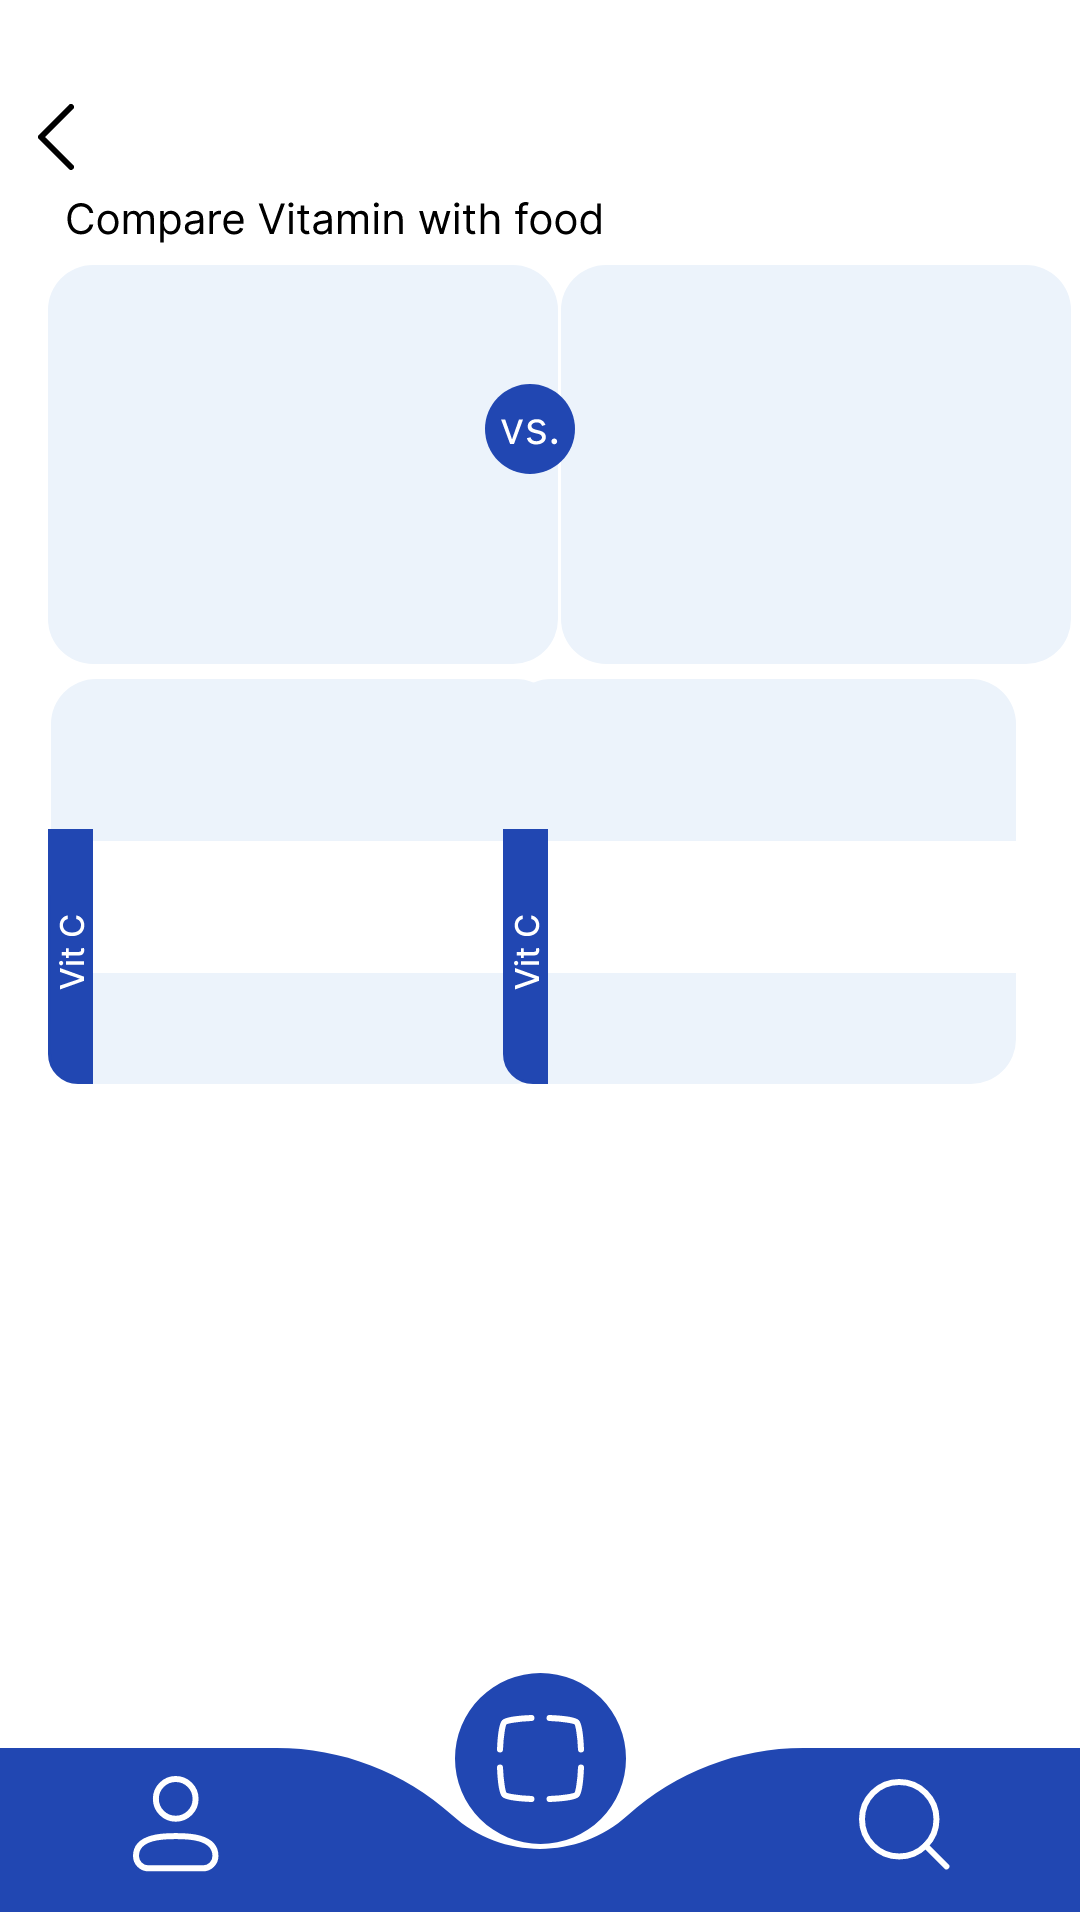

Icon click points for this 1080px×1920px phone screenshot, format point (x, y):
backarrow: point (56, 137)
scanbutton: point (540, 1770)
searchicon: point (904, 1824)
usericon: point (176, 1824)
